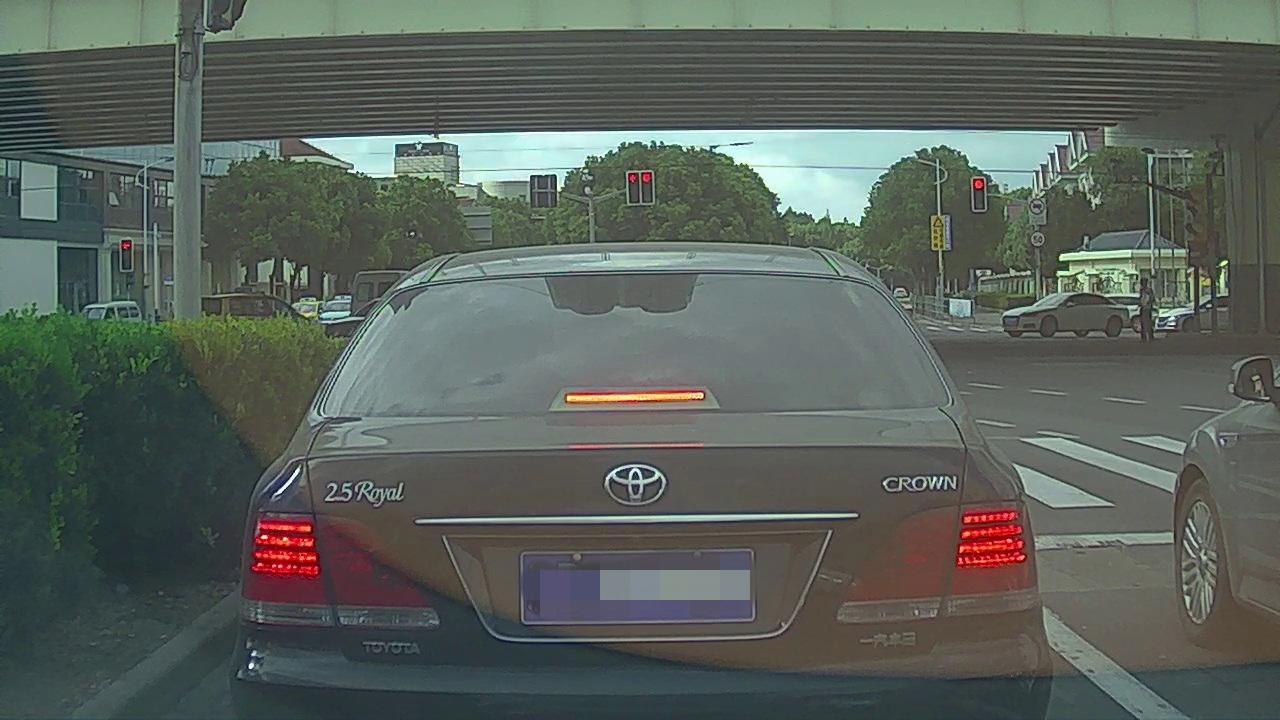traffic_light: (973, 178, 985, 210), (627, 172, 639, 203), (640, 172, 652, 203), (121, 240, 132, 270)
